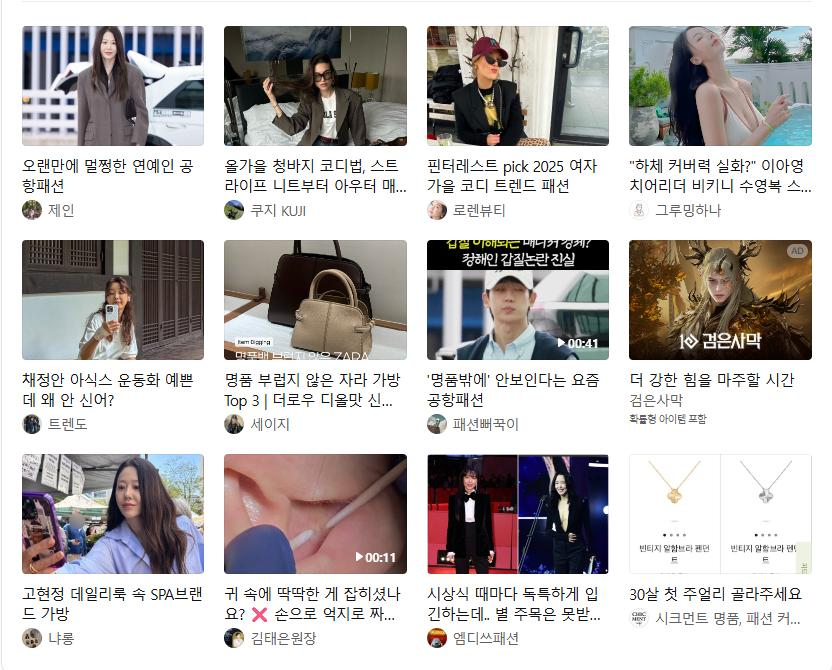popup: (622, 237, 821, 431)
